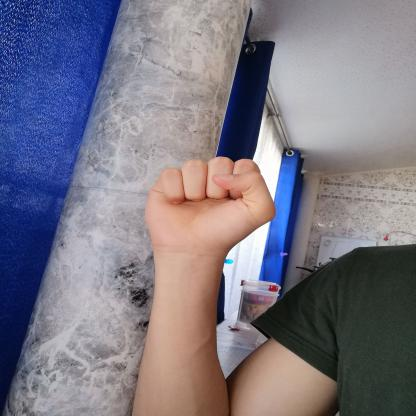SAD: (121, 144, 293, 268)
